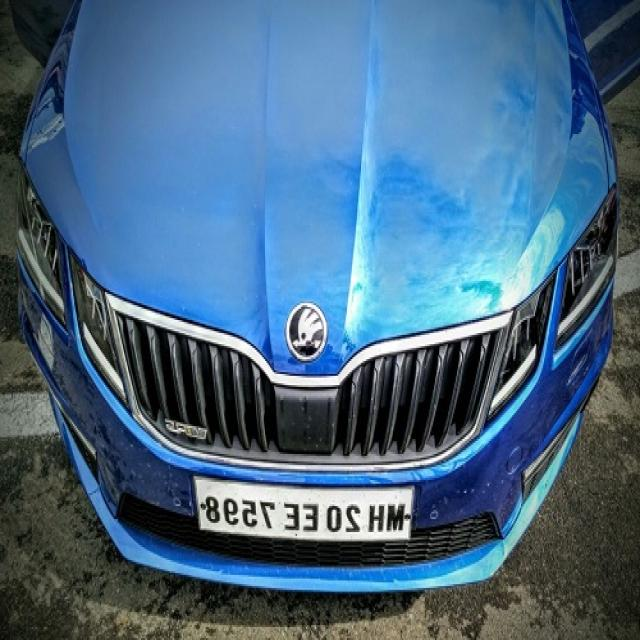number-plate: (191, 473, 422, 550)
